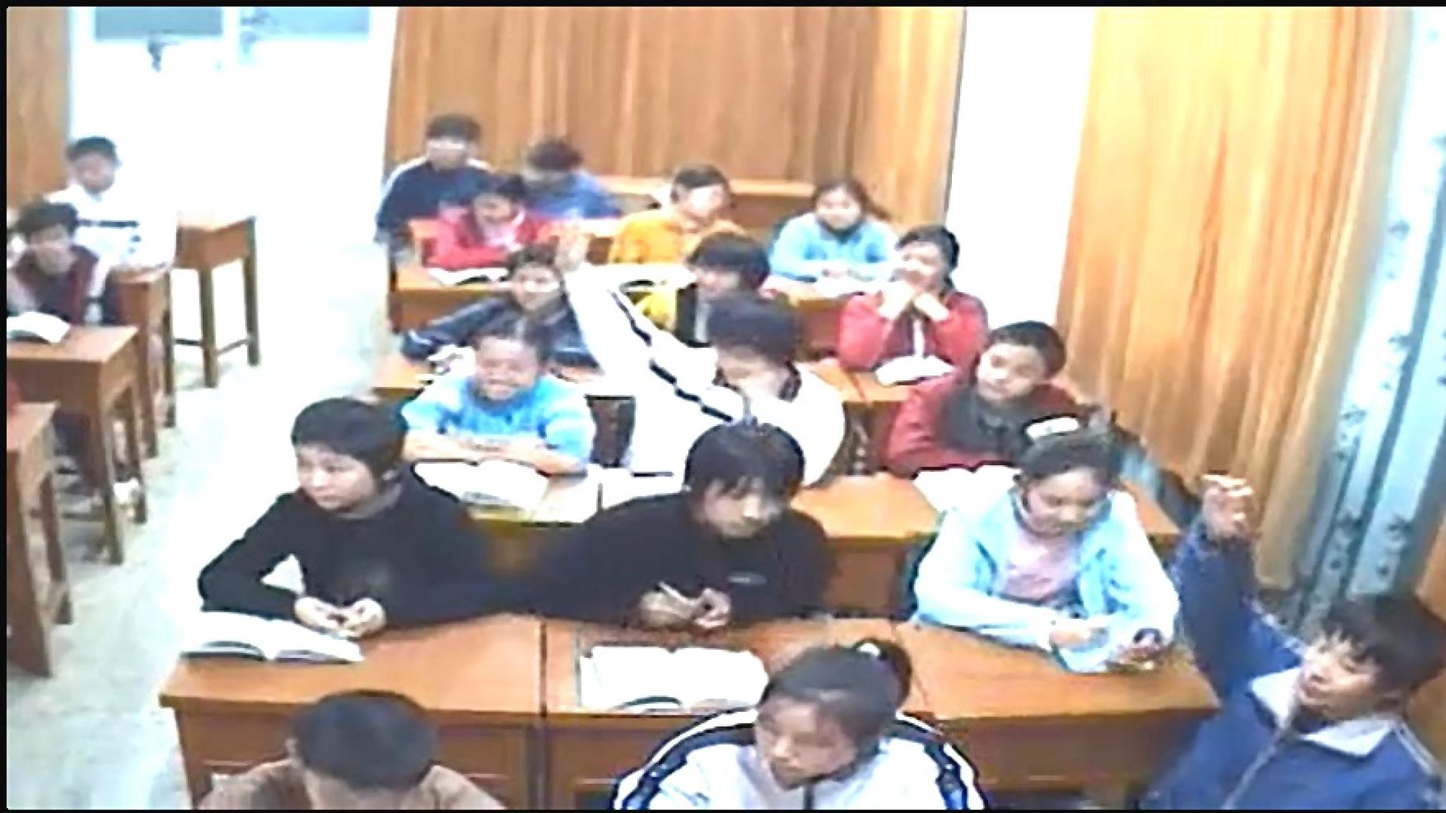Look Around: (729, 653, 891, 789), (277, 401, 409, 561)
Wave: (1189, 463, 1250, 701), (557, 217, 632, 379)
